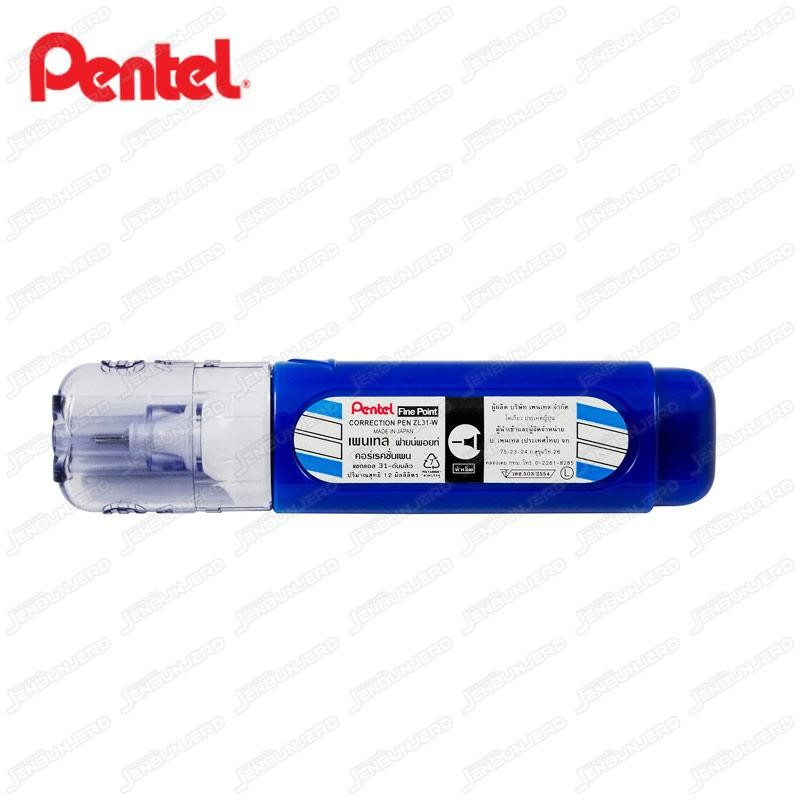Correction_fluid: (45, 353, 721, 523)
